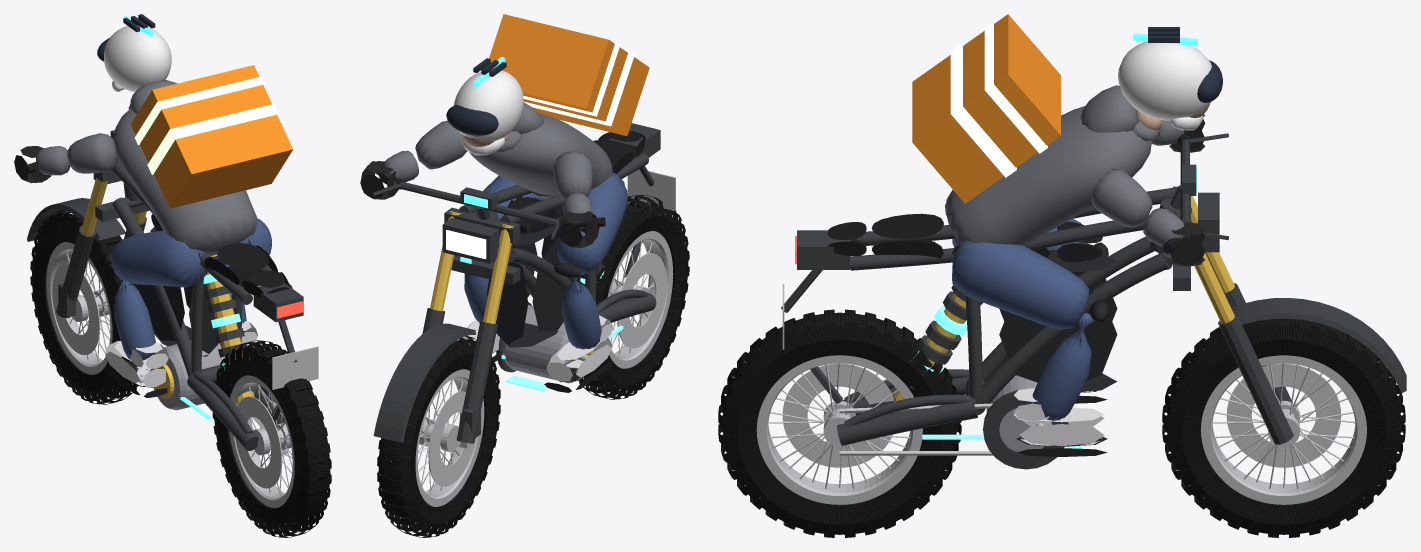
File: ebike.glb
The picture shows the model from 3 angles, left to right: view 1: azimuth 30°, elevation 25°; view 2: azimuth 150°, elevation 25°; view 3: azimuth 270°, elevation 25°; orthographic projection. The views are drawn at different scales.
Visible parts, largest first — view 1: rider_upper, body, wheel_r, wheel_f, rider_lower, steer_parts; view 2: rider_upper, body, steer_parts, wheel_f, wheel_r, rider_lower; view 3: rider_upper, wheel_f, wheel_r, body, rider_lower, steer_parts.
Part boxes in pixels (<box>): rider_upper: <box>14,14,293,256</box>; body: <box>111,160,318,454</box>; wheel_r: <box>212,340,331,537</box>; wheel_f: <box>30,209,138,404</box>; rider_lower: <box>103,218,271,397</box>; steer_parts: <box>22,130,149,318</box>; rider_upper: <box>360,14,649,247</box>; body: <box>459,123,675,391</box>; steer_parts: <box>370,161,605,448</box>; wheel_f: <box>377,336,500,537</box>; wheel_r: <box>578,194,689,399</box>; rider_lower: <box>456,172,627,392</box>; rider_upper: <box>912,14,1222,266</box>; wheel_f: <box>1162,318,1405,537</box>; wheel_r: <box>718,309,961,537</box>; body: <box>781,187,1192,469</box>; rider_lower: <box>952,219,1108,456</box>; steer_parts: <box>1162,133,1406,445</box>.
Size of the model in its own units: 0.8907 by 1.54 by 1.92.
23 materials, 1 textured.
